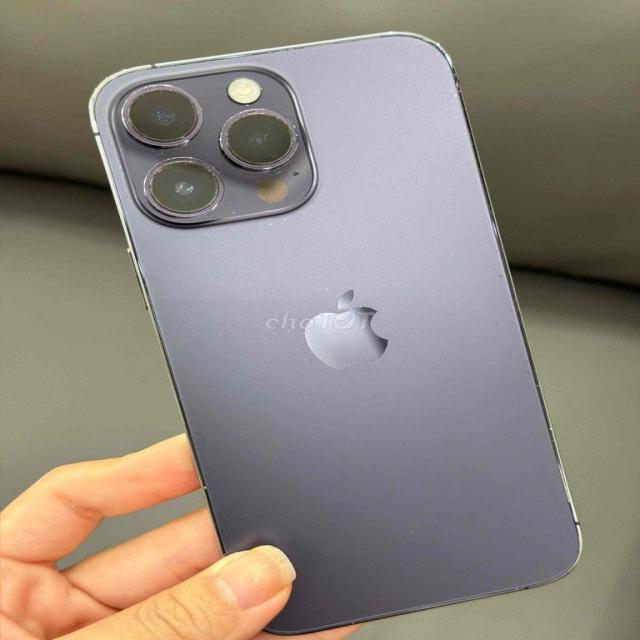scratch: (124, 152, 242, 226), (217, 100, 309, 177), (116, 80, 206, 150), (450, 72, 467, 98)
